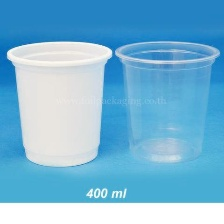glass: (3, 37, 115, 171), (115, 35, 222, 168)
